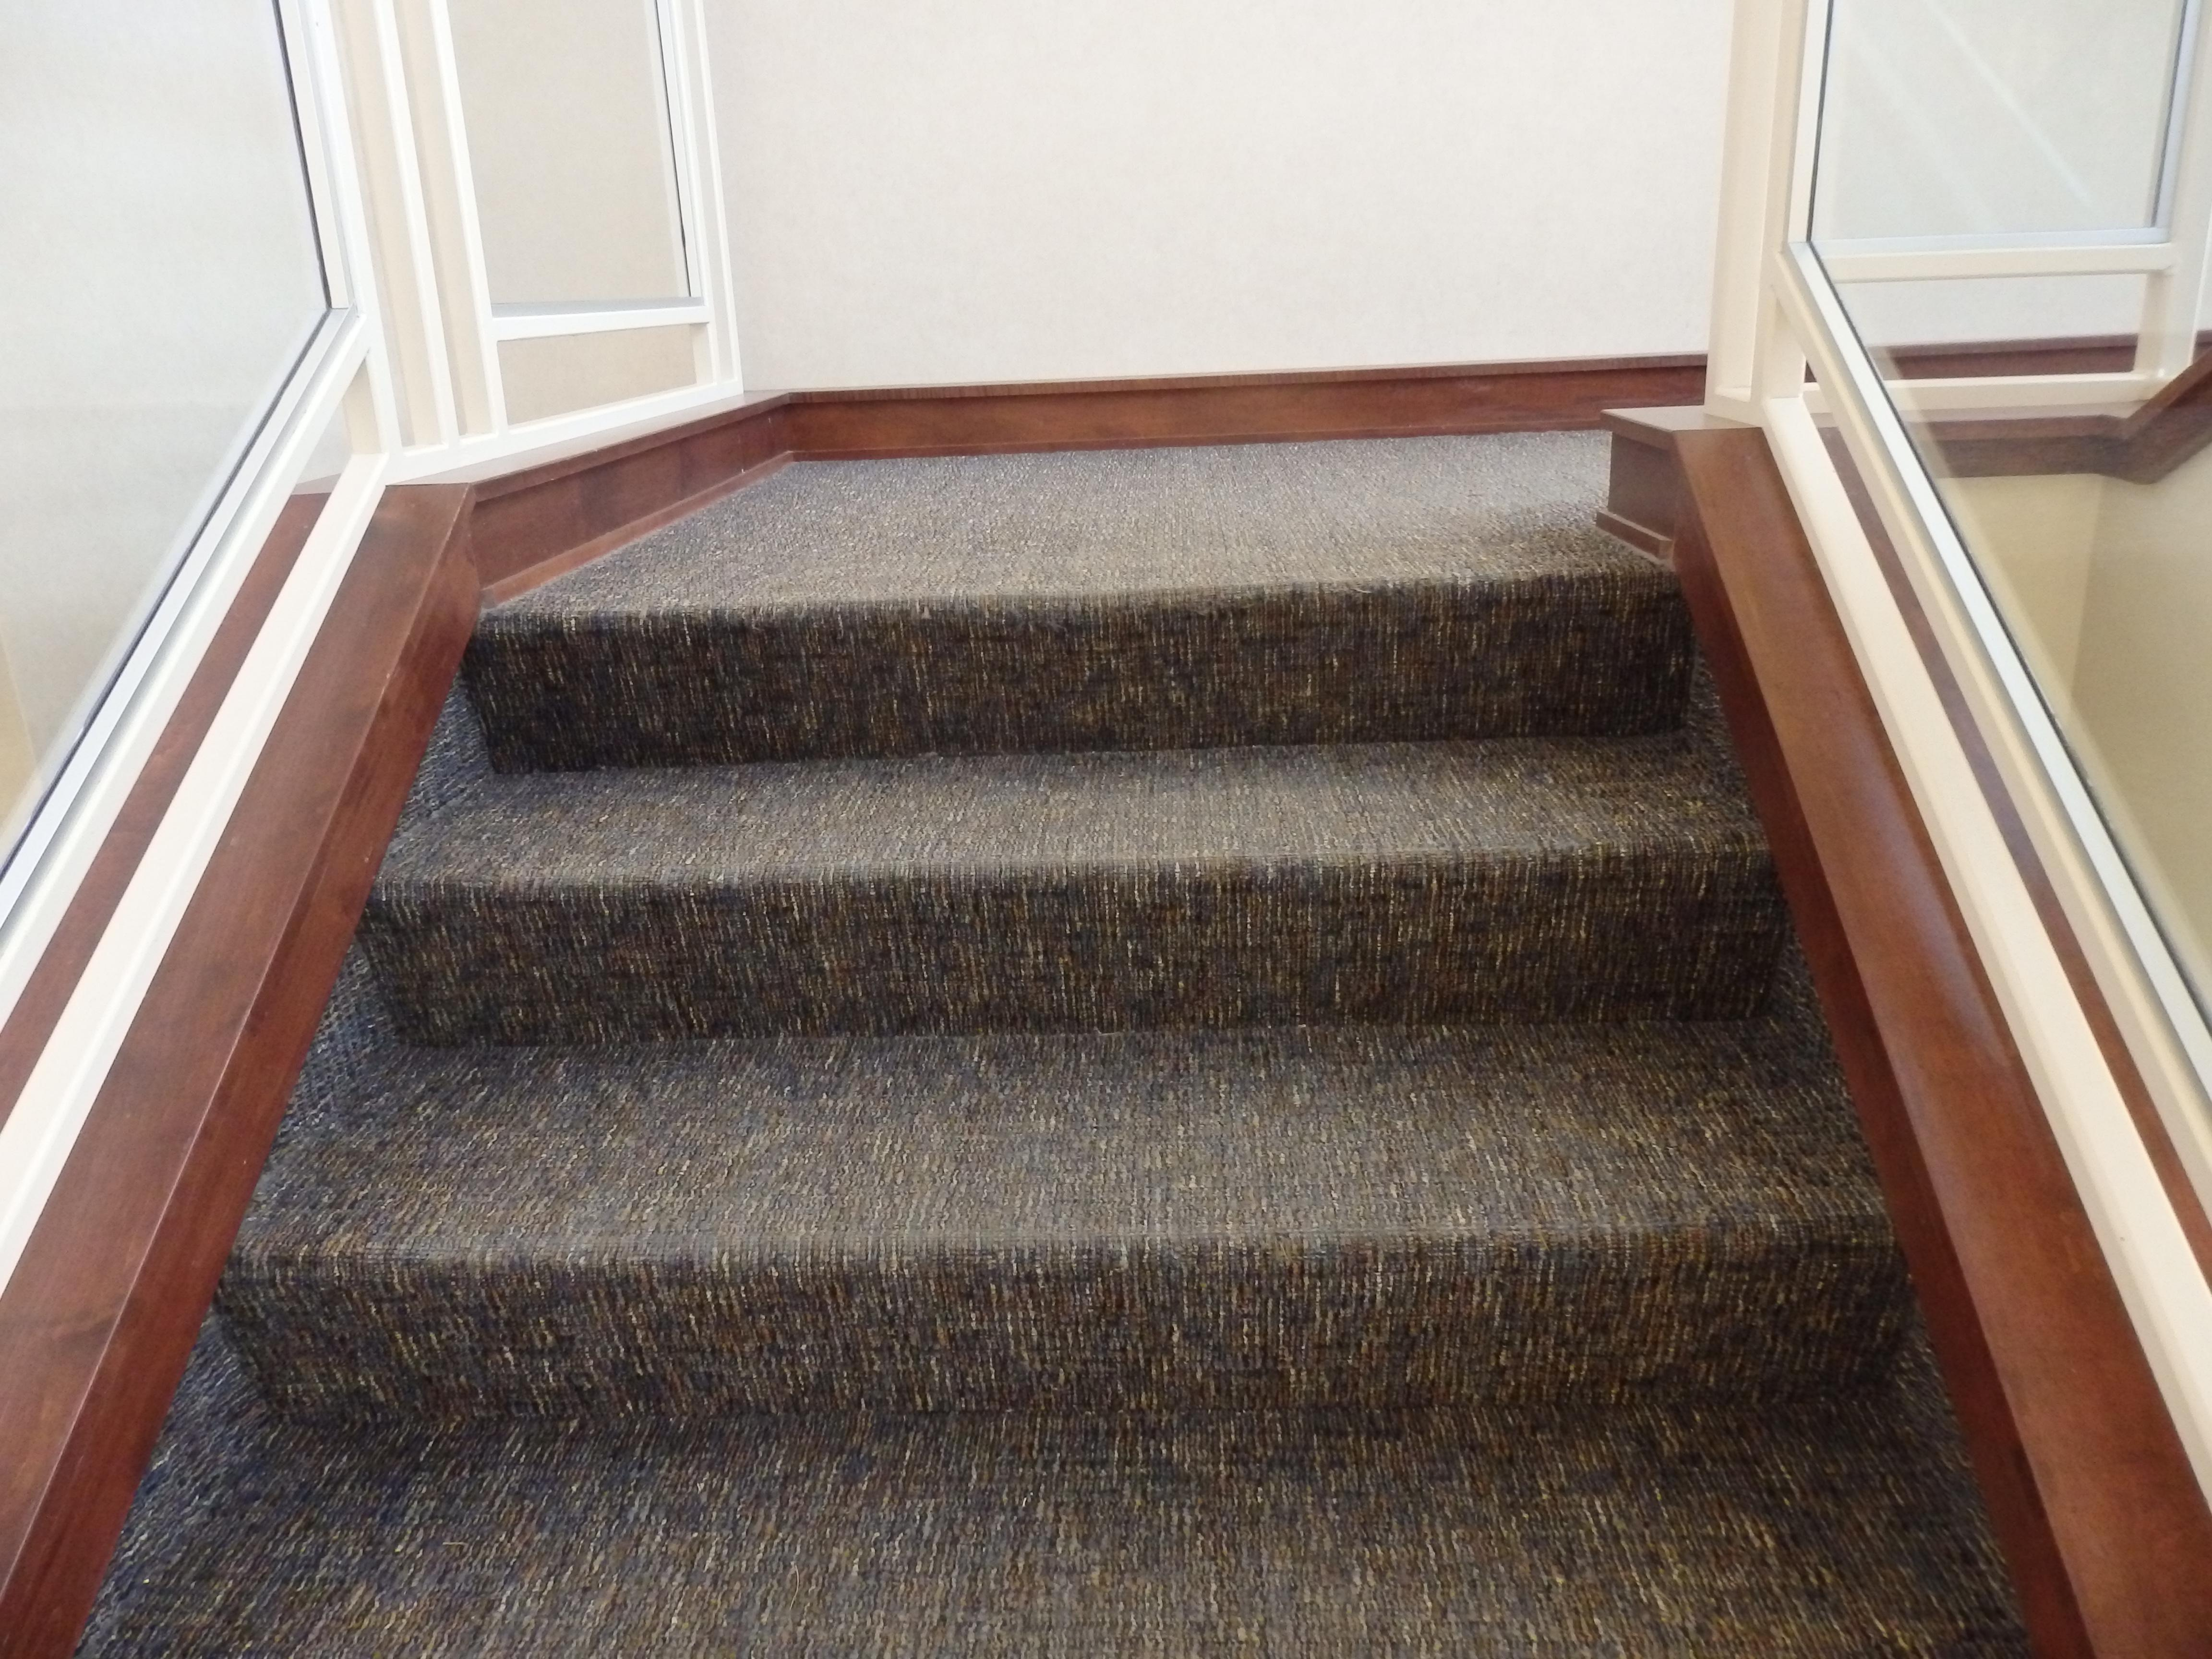stairs_up: (219, 591, 1881, 1363)
